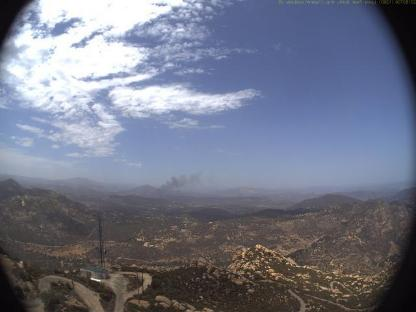smoke: (148, 166, 216, 199)
